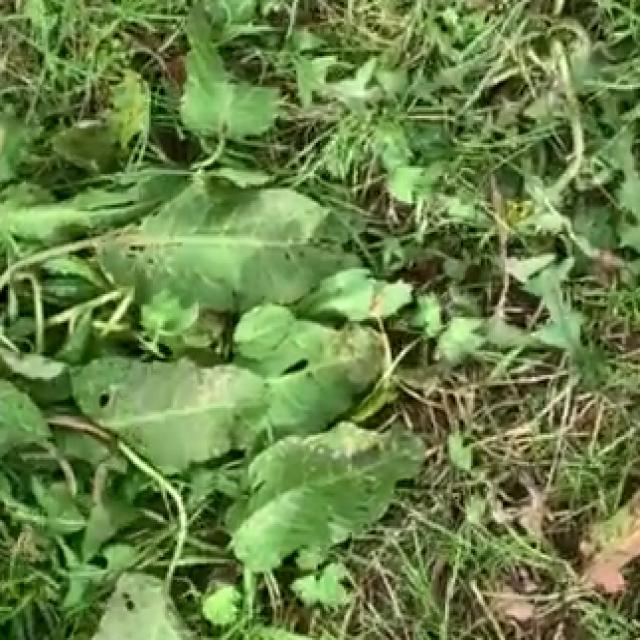organic waste: (22, 19, 465, 596)
